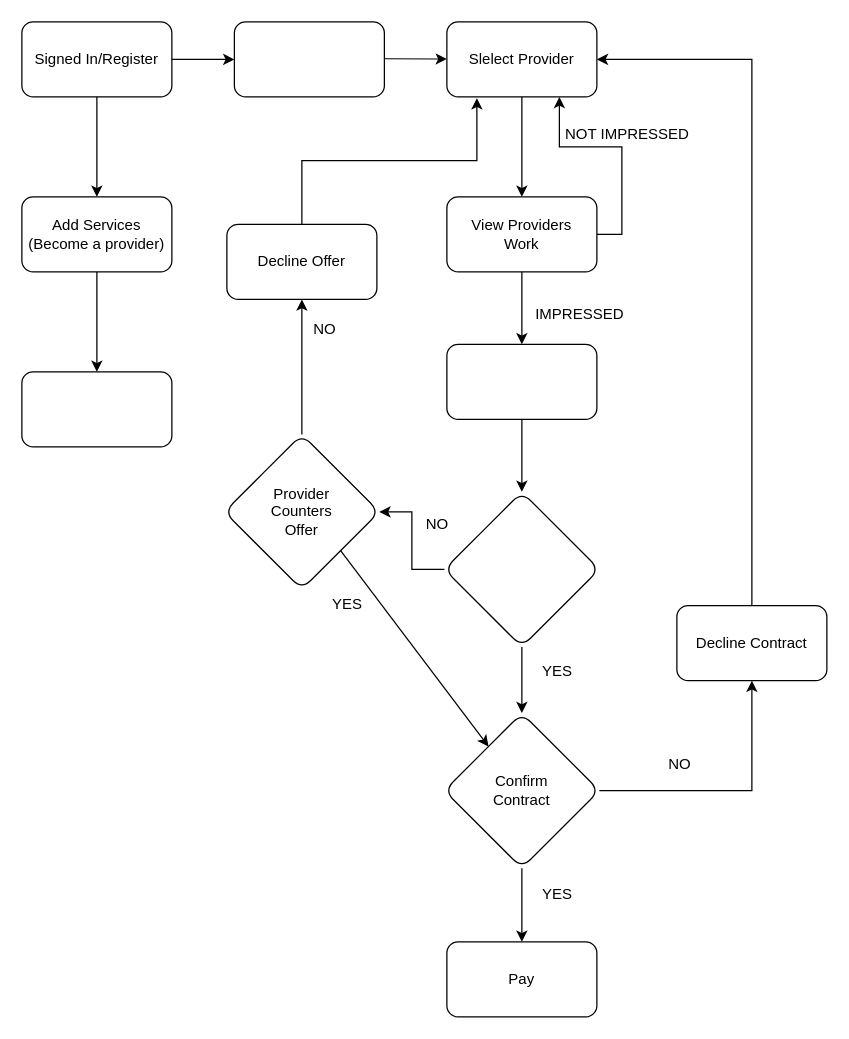
The diagram is 849 pixels wide and 1039 high, and some of its shapes have lost their labels. Here are the shapes that lost their labels. From the top down, the centre of each, then its label:
pixel 308 59: Search for service
pixel 521 381: Offer Contract
pixel 96 409: Update profile (Show your work done)
pixel 521 569: Provider Accepts offer
